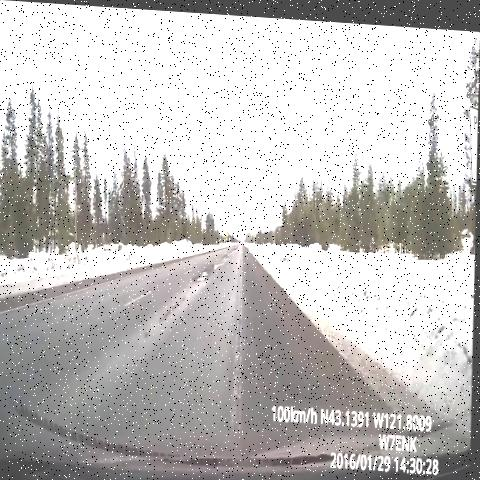pothole: (189, 259, 227, 289), (219, 239, 243, 262)
